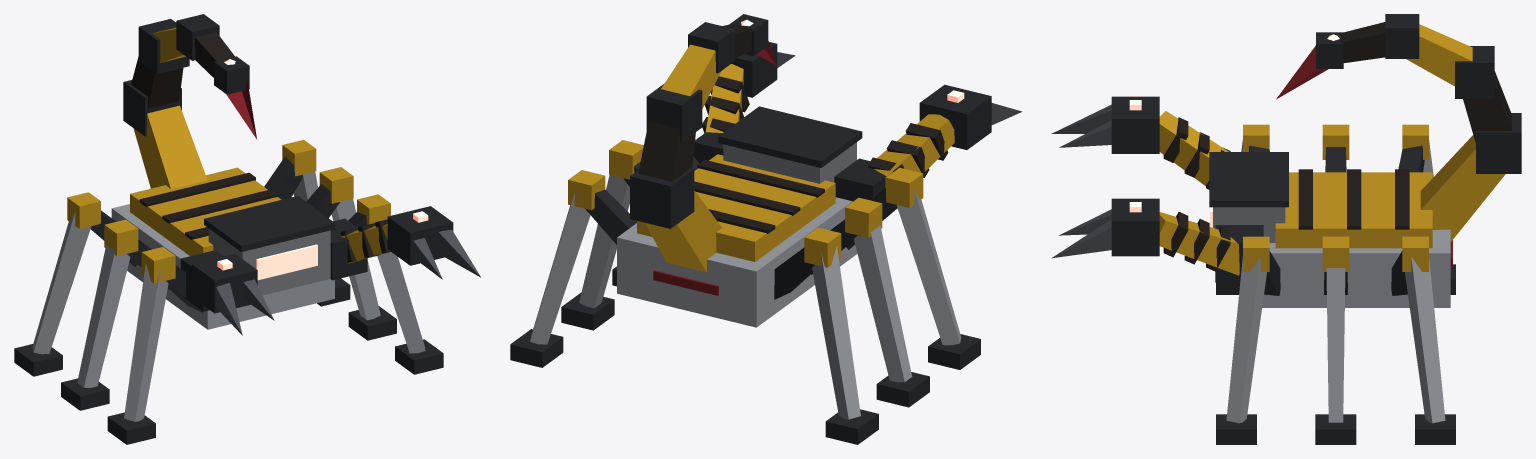
Rendered from foreman.glb.
3 views of the same model, side by side, from view 1: azimuth 30°, elevation 25°; view 2: azimuth 150°, elevation 25°; view 3: azimuth 270°, elevation 25° (orthographic). The views are drawn at different scales.
Parts seen in each view (by area): view 1: DForemanHull, DForemanGlow; view 2: DForemanHull; view 3: DForemanHull.
Boxes of the visible parts, left/top/right/bottom form: DForemanHull: left=14, top=14, right=480, bottom=444; DForemanGlow: left=217, top=59, right=428, bottom=280; DForemanHull: left=510, top=14, right=1022, bottom=444; DForemanHull: left=1051, top=14, right=1521, bottom=444.
Bounding box in the file's own units: 3.24 × 3.12 × 3.9.
